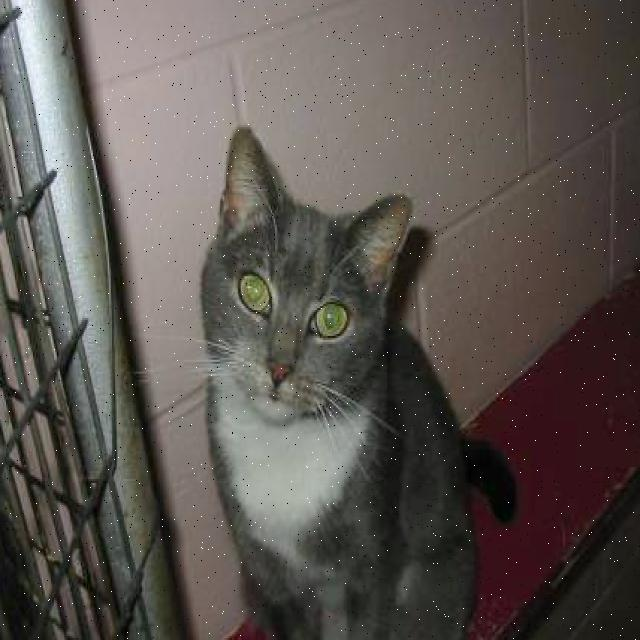Cat: (199, 134, 426, 441)
